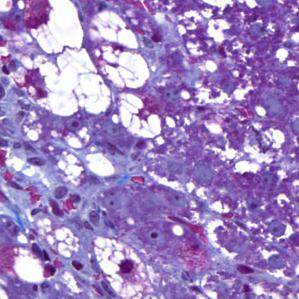ballooning: (14, 6, 115, 120), (81, 3, 154, 96), (93, 234, 157, 294)
